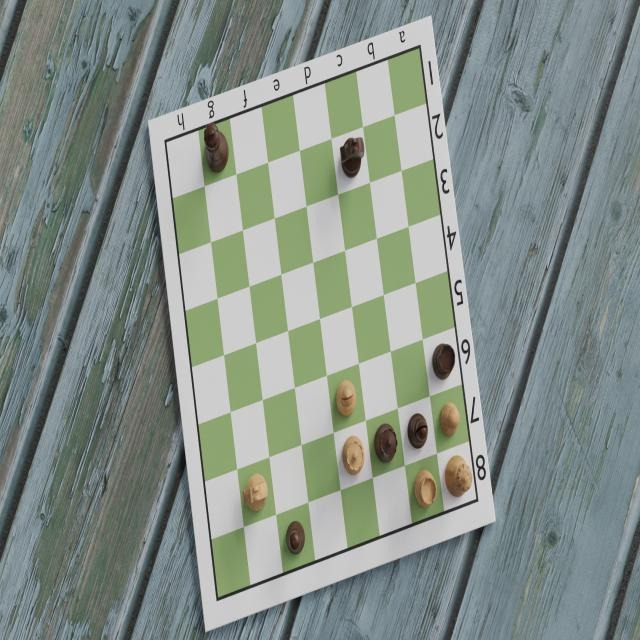black-bishop: (406, 411, 429, 453)
black-king: (202, 123, 231, 177)
black-knight: (339, 133, 367, 183)
black-pawn: (284, 517, 307, 559)
black-queen: (373, 420, 399, 466)
black-rook: (430, 340, 458, 384)
white-bishop: (334, 376, 358, 419)
white-king: (444, 453, 476, 501)
white-knight: (241, 472, 271, 516)
white-pawn: (437, 397, 462, 440)
white-queen: (339, 433, 364, 479)
white-rook: (412, 467, 439, 511)
